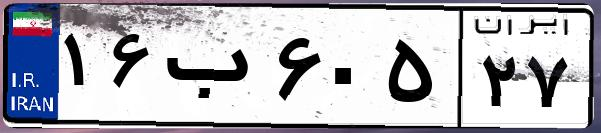0: (330, 28, 385, 110)
1: (57, 26, 110, 100)
2: (475, 38, 525, 113)
5: (385, 28, 445, 110)
6: (270, 28, 330, 110), (110, 28, 158, 98)
7: (525, 38, 570, 115)
ب: (158, 20, 270, 120)
